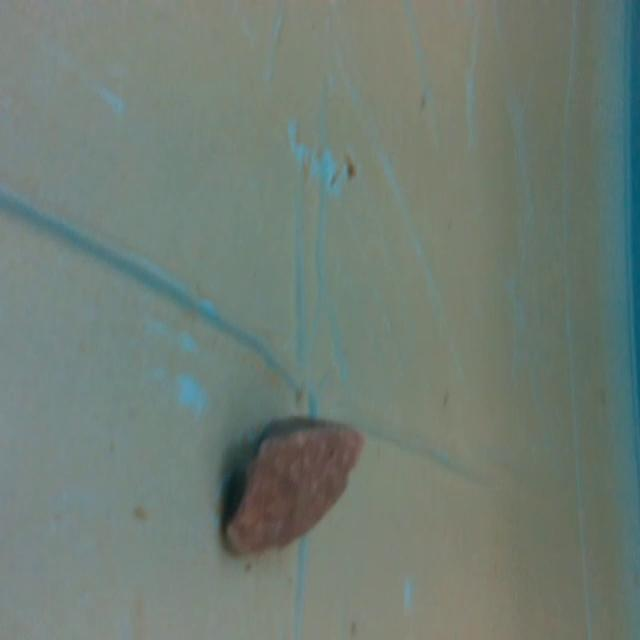rock: (216, 410, 366, 570)
